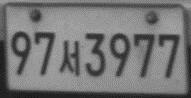3: (83, 32, 107, 77)
7: (157, 33, 181, 79), (132, 33, 155, 78), (33, 31, 55, 77)
9: (109, 32, 132, 78), (10, 30, 31, 75)
서: (58, 38, 81, 77)
